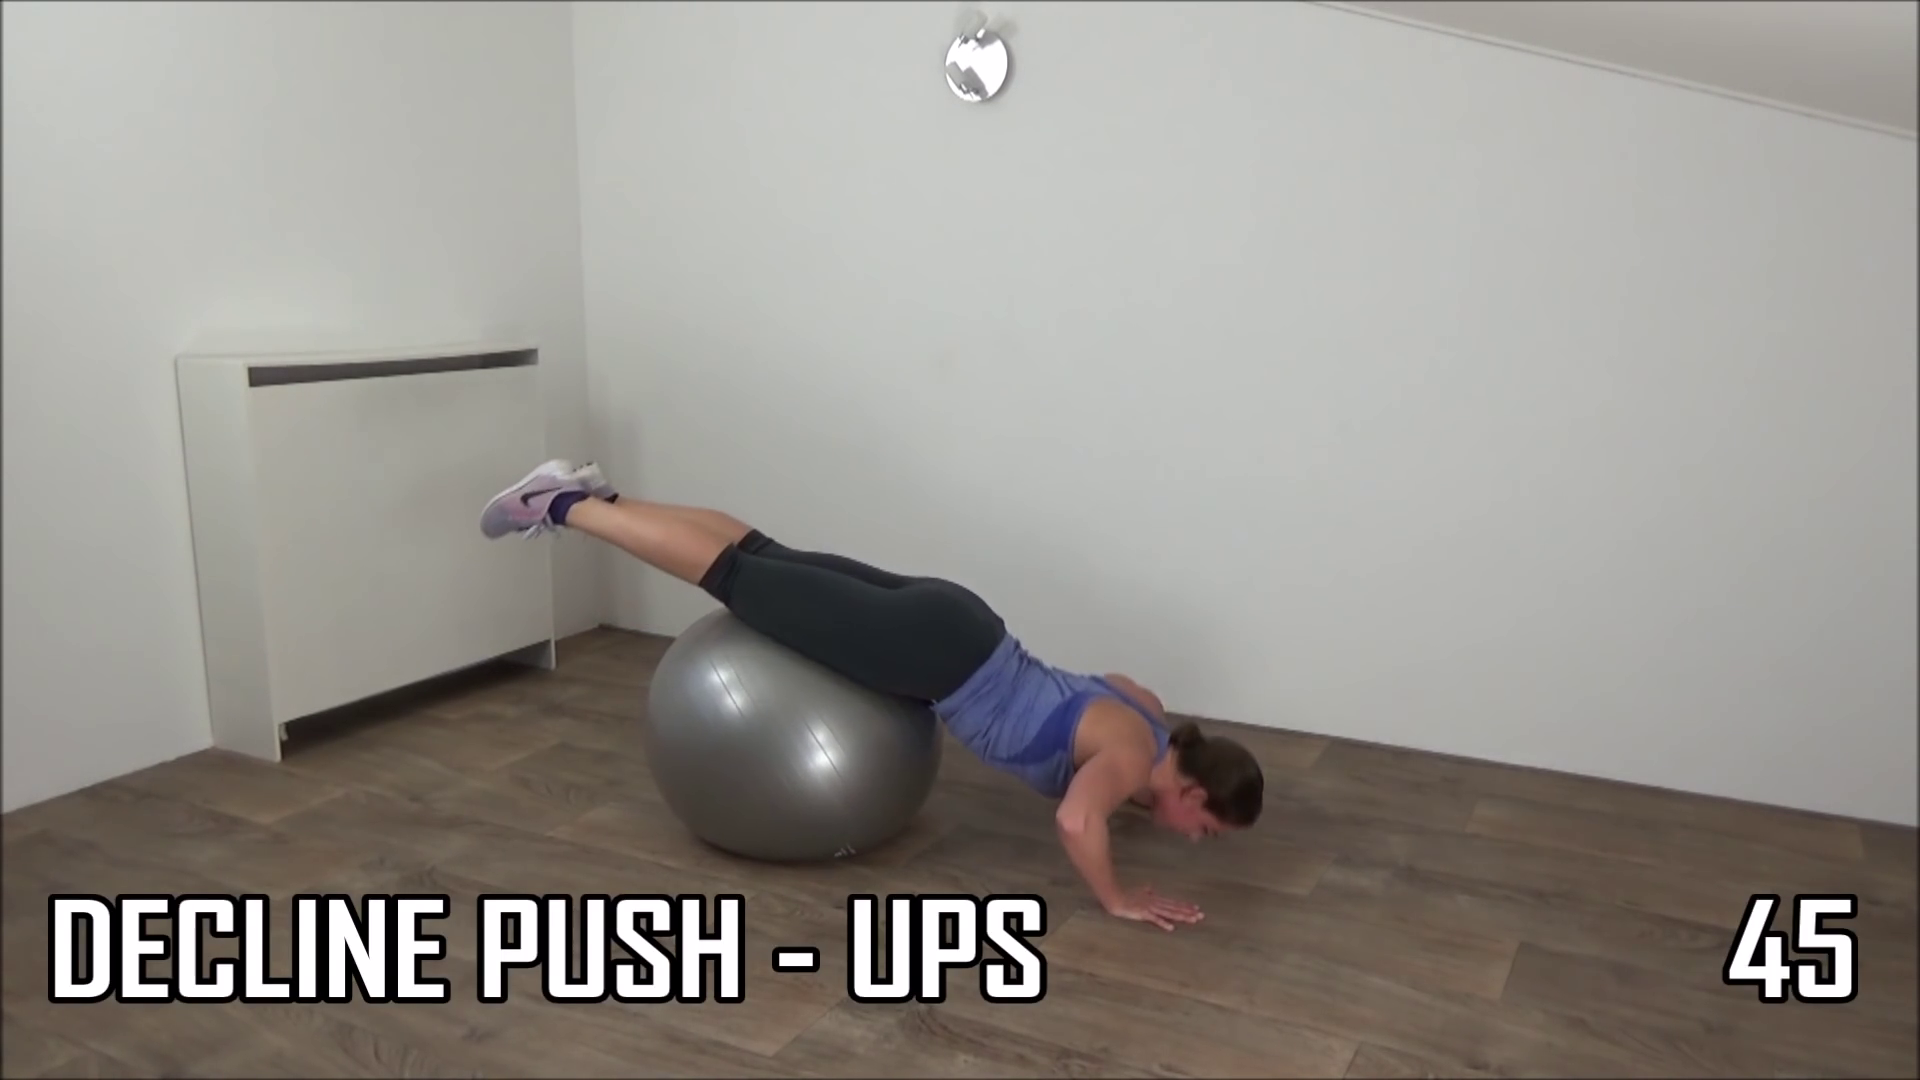yogaball: (626, 608, 968, 862)
